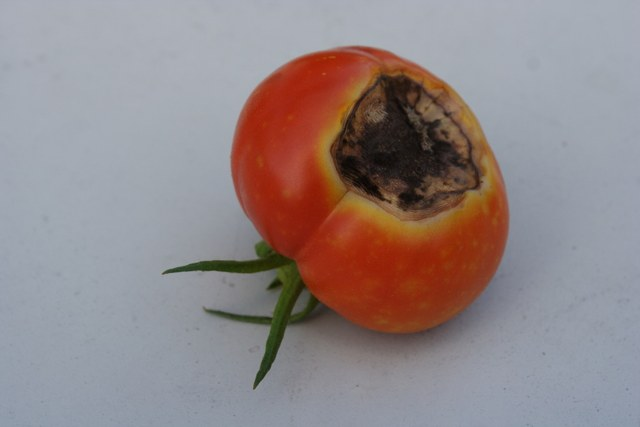tomato: (230, 45, 510, 335)
